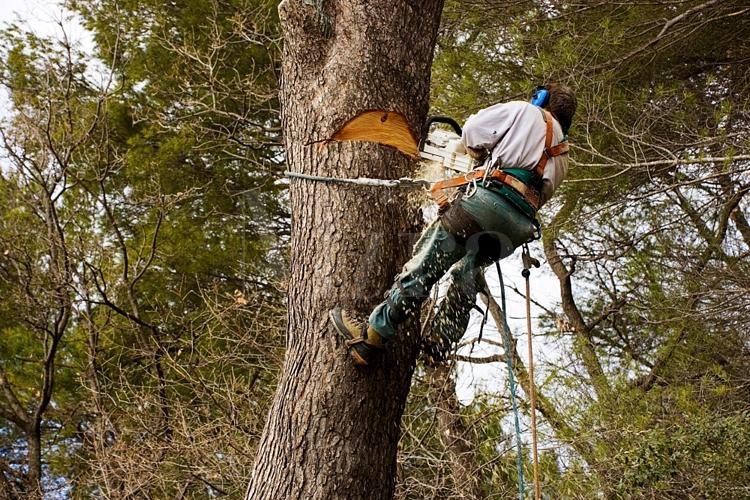person: (326, 83, 580, 370)
